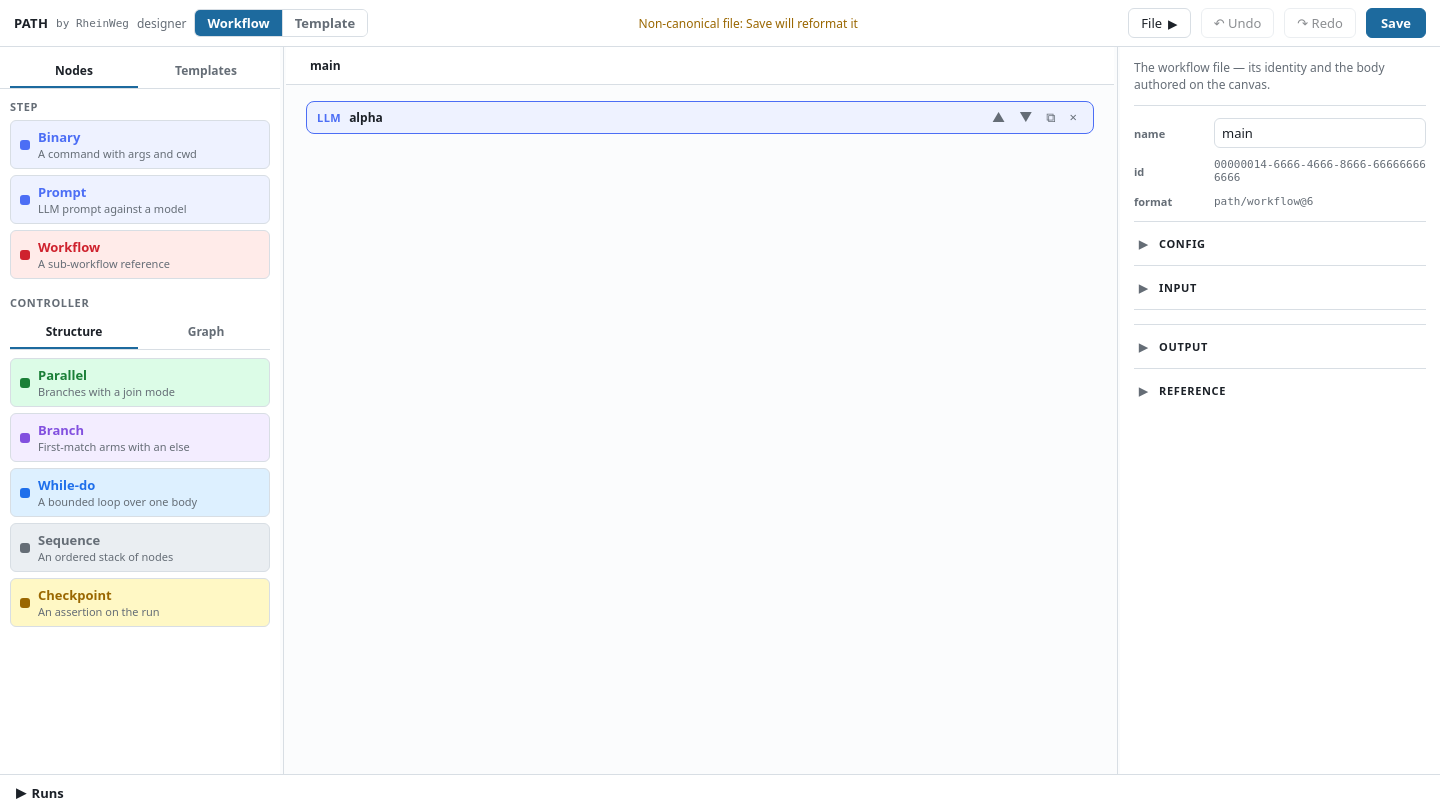
Test: workflow Save as… mine / shared picker › defaults to mine, even for a shared source, and offers only mine's directories
Expected: the text "alpha" is shown, 349,109 -> 383,126
Click the button "File ▸".
click(1159, 23)  # box 1128,8 -> 1191,38
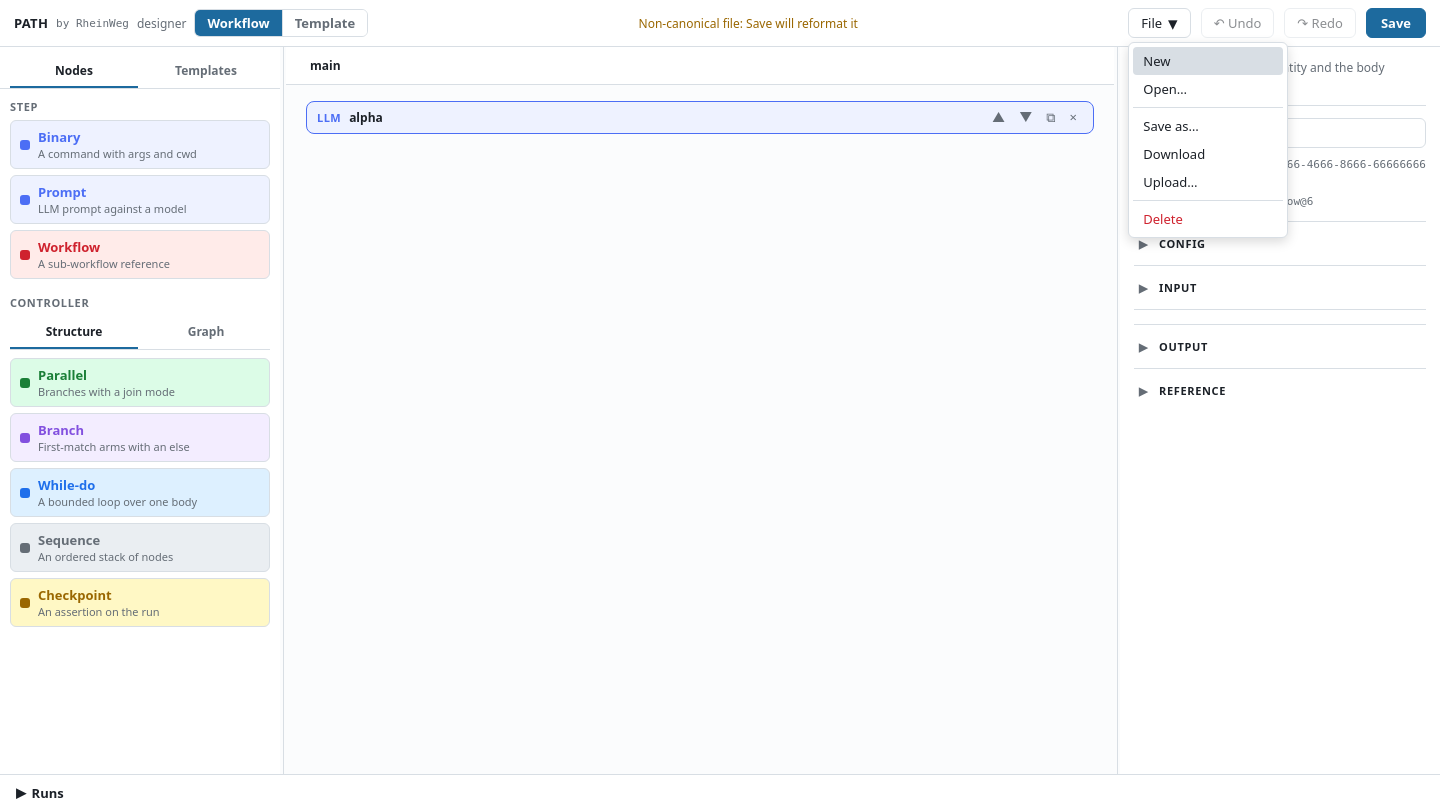
Click the menu item "Save as…".
click(1208, 126)  # box 1133,112 -> 1283,140
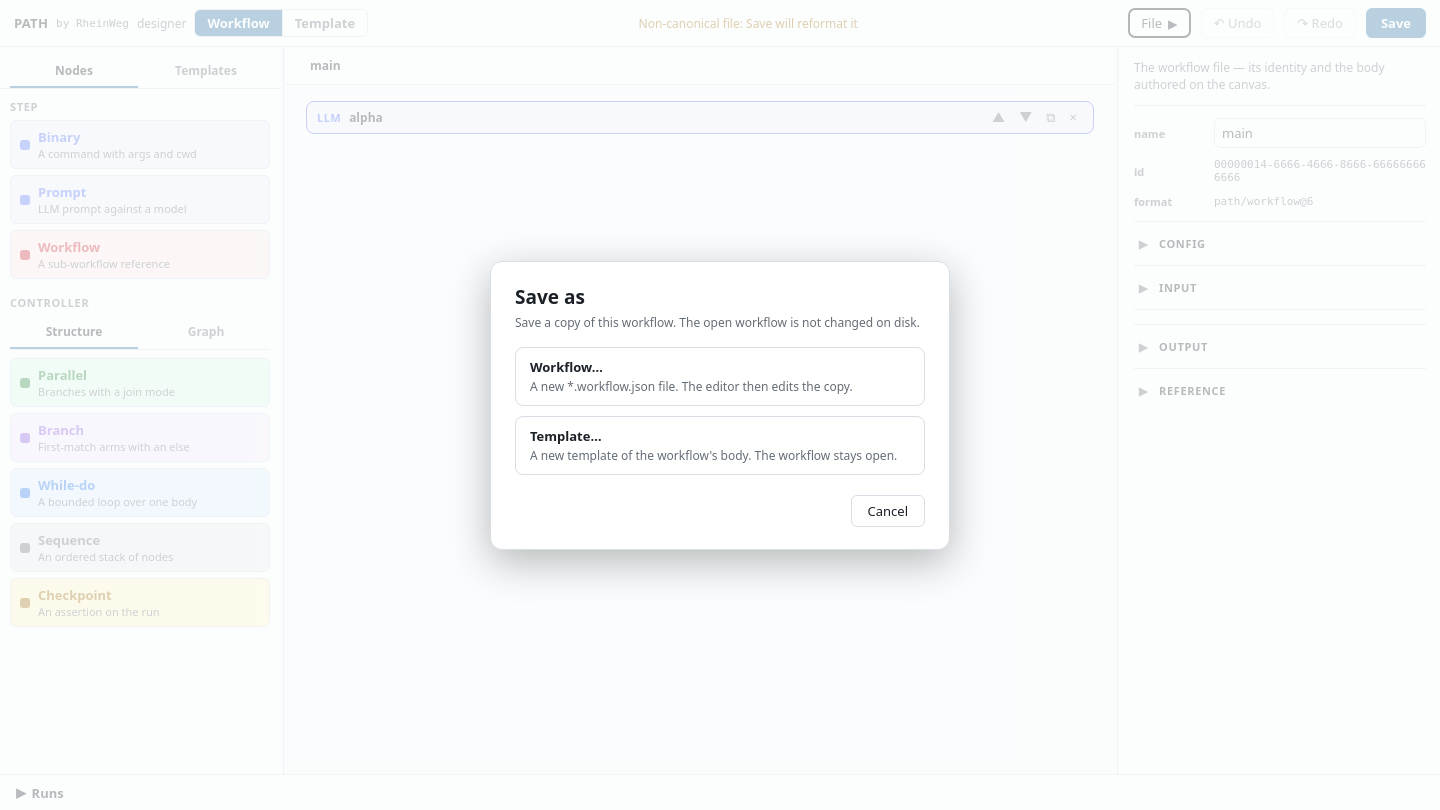
Click the button "Workflow…".
click(720, 376)  # box 515,346 -> 925,406
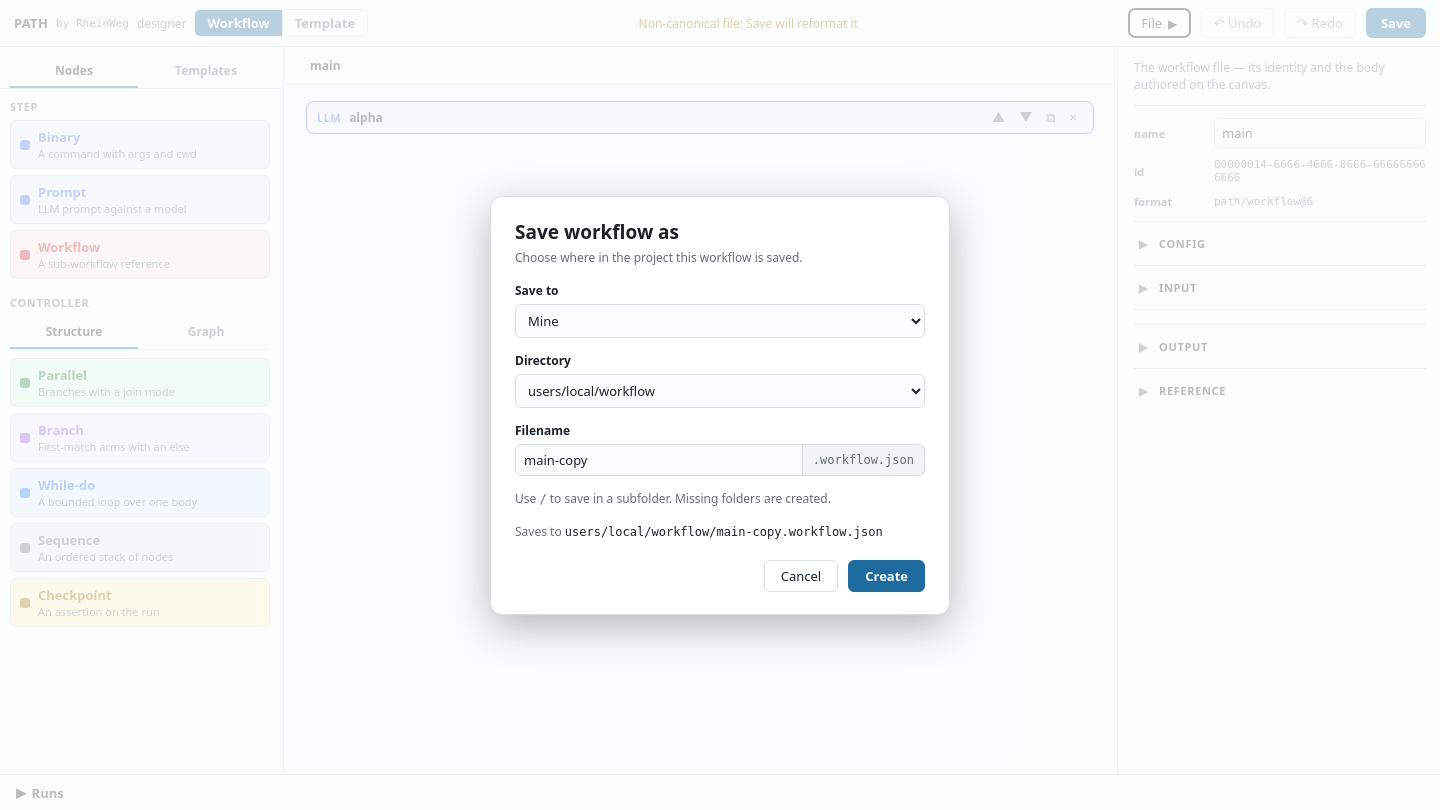
Expected: the dropdown labelled "Save to" shows "Mine", 515,304 -> 925,338
Expected: the dropdown labelled "Directory" shows "users/local/workflow", 515,374 -> 925,408
